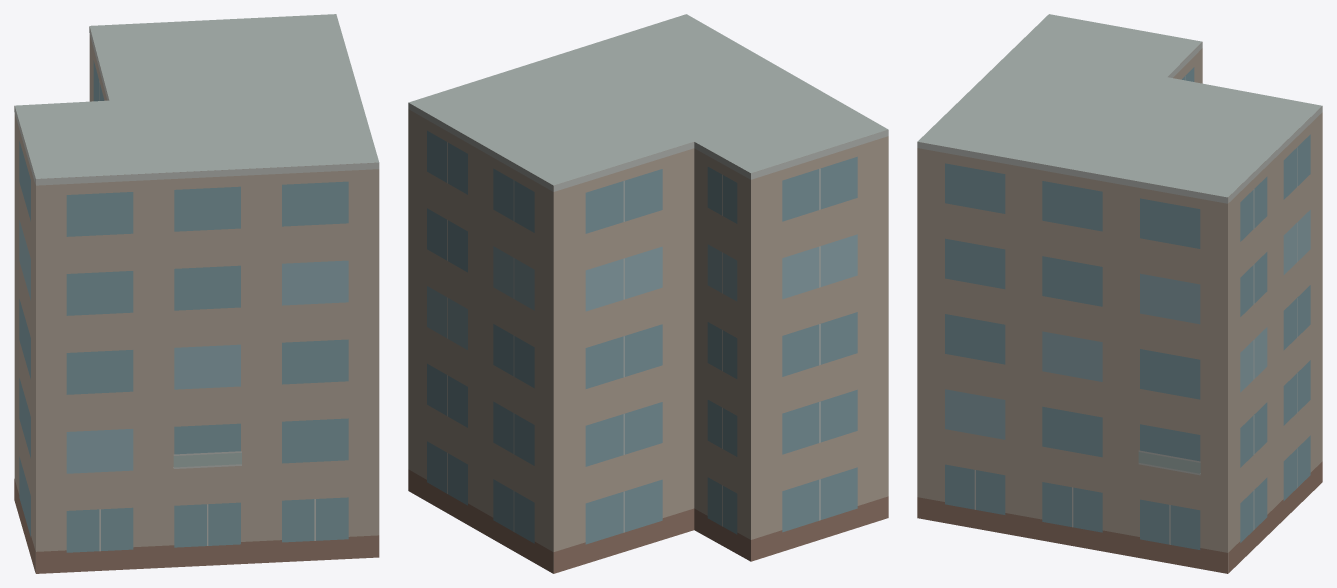
The model's file is survey-upis-32534597.glb.
The picture shows the model from 3 angles, left to right: view 1: azimuth 30°, elevation 25°; view 2: azimuth 150°, elevation 25°; view 3: azimuth 270°, elevation 25°; orthographic projection. The views are drawn at different scales.
Parts seen in each view (by area): view 1: survey-upis-32534597.tmp; view 2: survey-upis-32534597.tmp; view 3: survey-upis-32534597.tmp.
Boxes of the visible parts, left/top/right/bottom form: survey-upis-32534597.tmp: left=14, top=14, right=379, bottom=573; survey-upis-32534597.tmp: left=408, top=14, right=888, bottom=573; survey-upis-32534597.tmp: left=917, top=14, right=1322, bottom=573.
Bounding box in the file's own units: 15.22 × 14.55 × 14.2.
